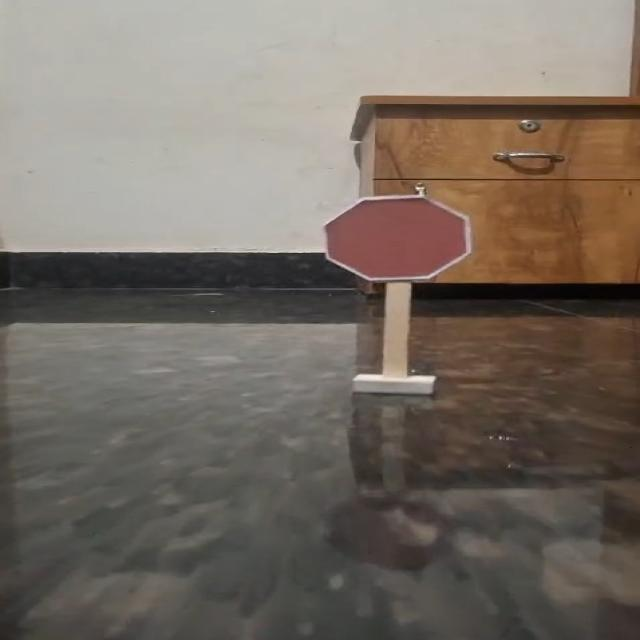Stop: (312, 192, 484, 288)
